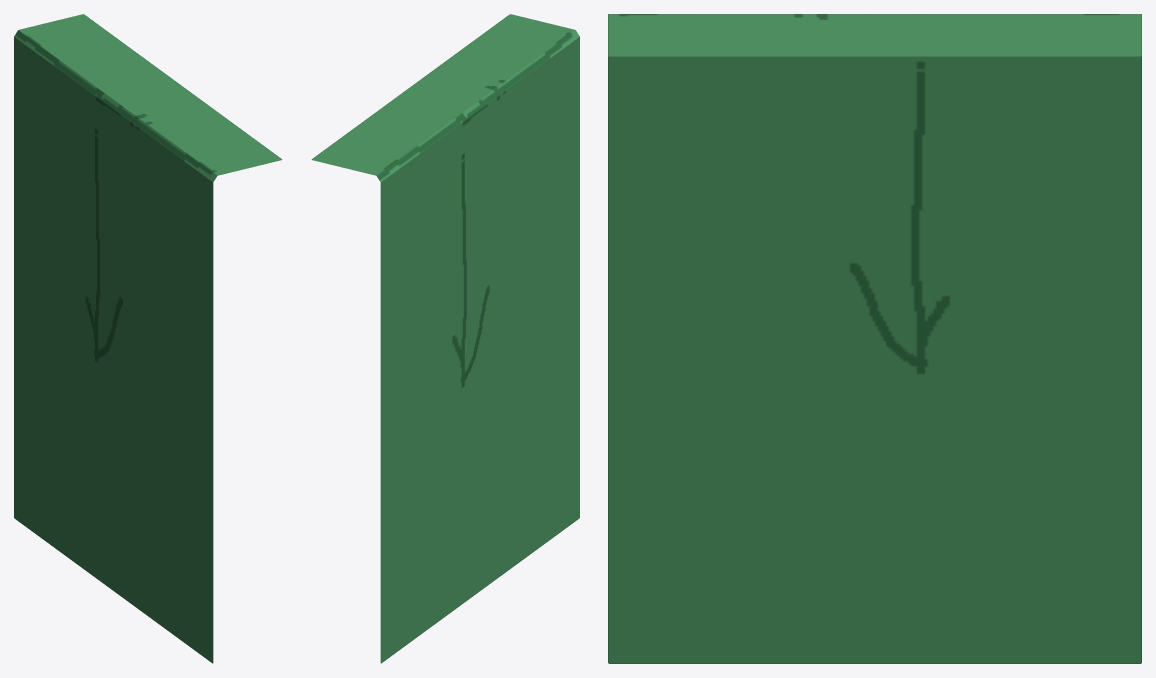
File: Overgrowth_Giant.fbx
3 views of the same model, side by side, from view 1: azimuth 30°, elevation 25°; view 2: azimuth 150°, elevation 25°; view 3: azimuth 270°, elevation 25° (orthographic). The views are drawn at different scales.
Visible parts, largest first — view 1: Overgrowth_Giant; view 2: Overgrowth_Giant; view 3: Overgrowth_Giant.
Part boxes in pixels (x1=…): Overgrowth_Giant: x1=14, y1=14, x2=282, y2=663; Overgrowth_Giant: x1=311, y1=14, x2=579, y2=663; Overgrowth_Giant: x1=608, y1=14, x2=1141, y2=663.
Bounding box in the file's own units: 121 × 809 × 600.
Materials: 1 (1 with a texture image).
